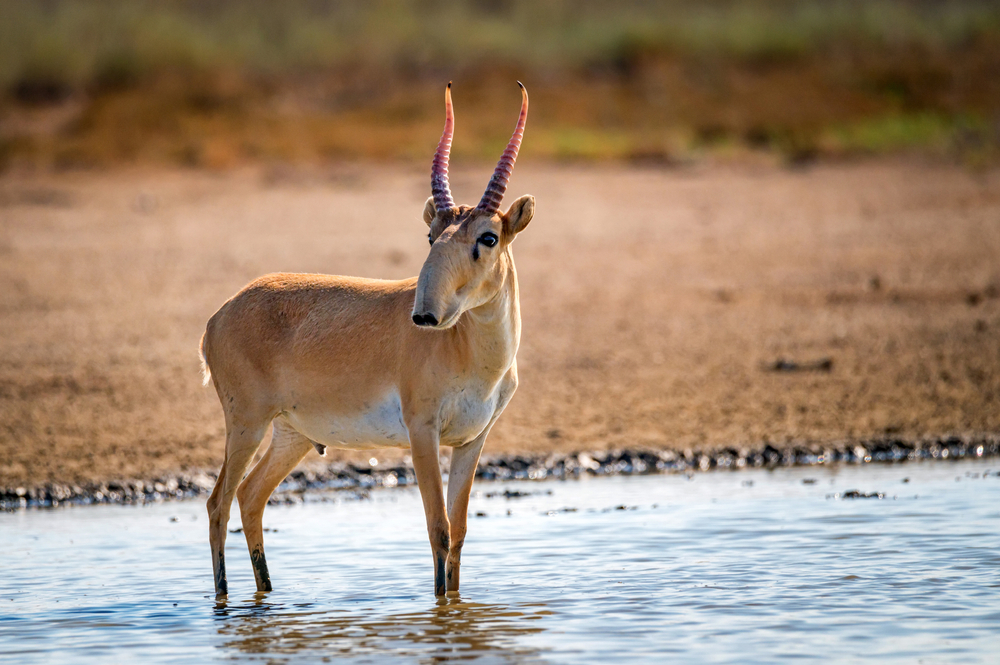saiga: (195, 75, 545, 615)
